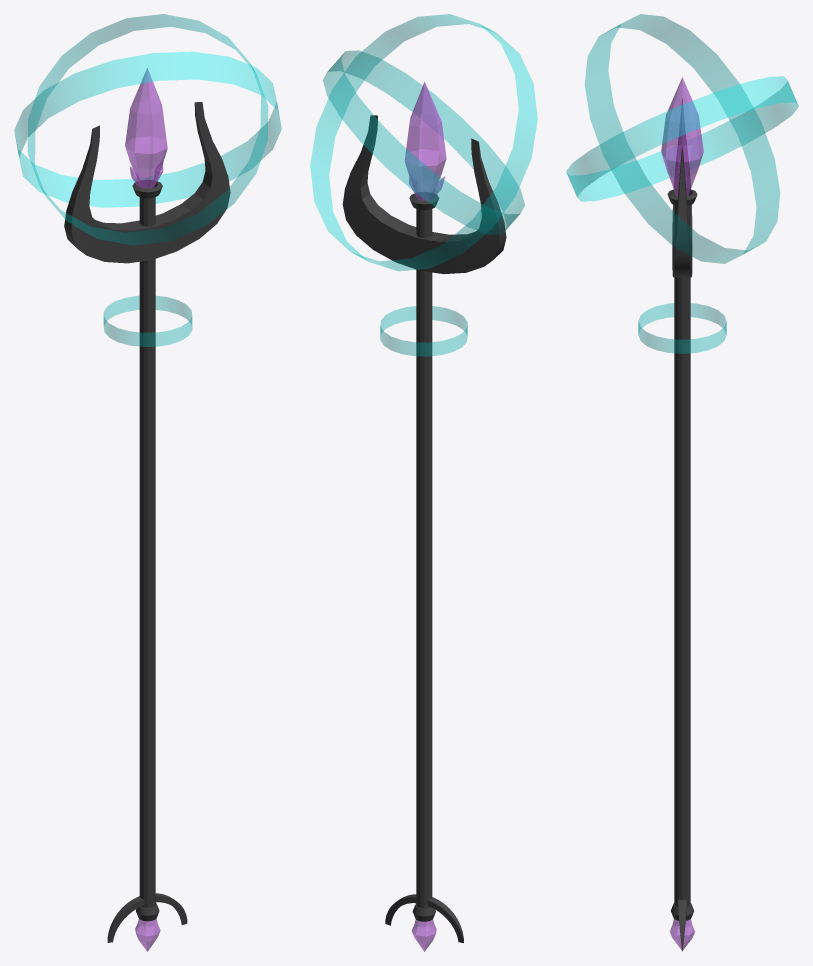
The model's file is Staff2.fbx.
3 renders of one model, left to right at view 1: azimuth 30°, elevation 25°; view 2: azimuth 150°, elevation 25°; view 3: azimuth 270°, elevation 25°, orthographic.
Visible parts, largest first — view 1: Staff, StaffMagic_holo1, StaffMagic_holo2, Staff_Crystals, Handle_holo; view 2: Staff, StaffMagic_holo2, StaffMagic_holo1, Staff_Crystals, Handle_holo; view 3: StaffMagic_holo1, Staff, StaffMagic_holo2, Staff_Crystals, Handle_holo.
Part boxes in pixels (bbox=[...]): Staff: bbox=[64, 102, 230, 942]; StaffMagic_holo1: bbox=[14, 52, 281, 207]; StaffMagic_holo2: bbox=[28, 14, 267, 245]; Staff_Crystals: bbox=[125, 68, 167, 951]; Handle_holo: bbox=[103, 296, 192, 346]; Staff: bbox=[342, 115, 506, 942]; StaffMagic_holo2: bbox=[323, 50, 524, 234]; StaffMagic_holo1: bbox=[310, 14, 537, 270]; Staff_Crystals: bbox=[405, 81, 446, 951]; Handle_holo: bbox=[380, 306, 467, 356]; StaffMagic_holo1: bbox=[585, 14, 779, 263]; Staff: bbox=[667, 98, 697, 951]; StaffMagic_holo2: bbox=[566, 76, 798, 201]; Staff_Crystals: bbox=[661, 77, 703, 950]; Handle_holo: bbox=[638, 303, 726, 353].
Bounding box in the file's own units: 55.43 × 214 × 49.3.
